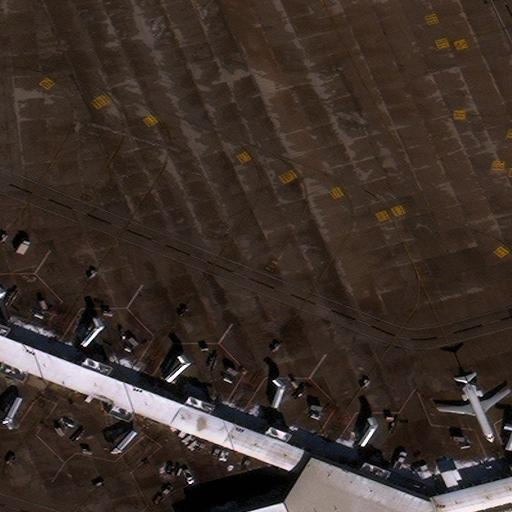Medium Civil Transport: (438, 374, 509, 442)
